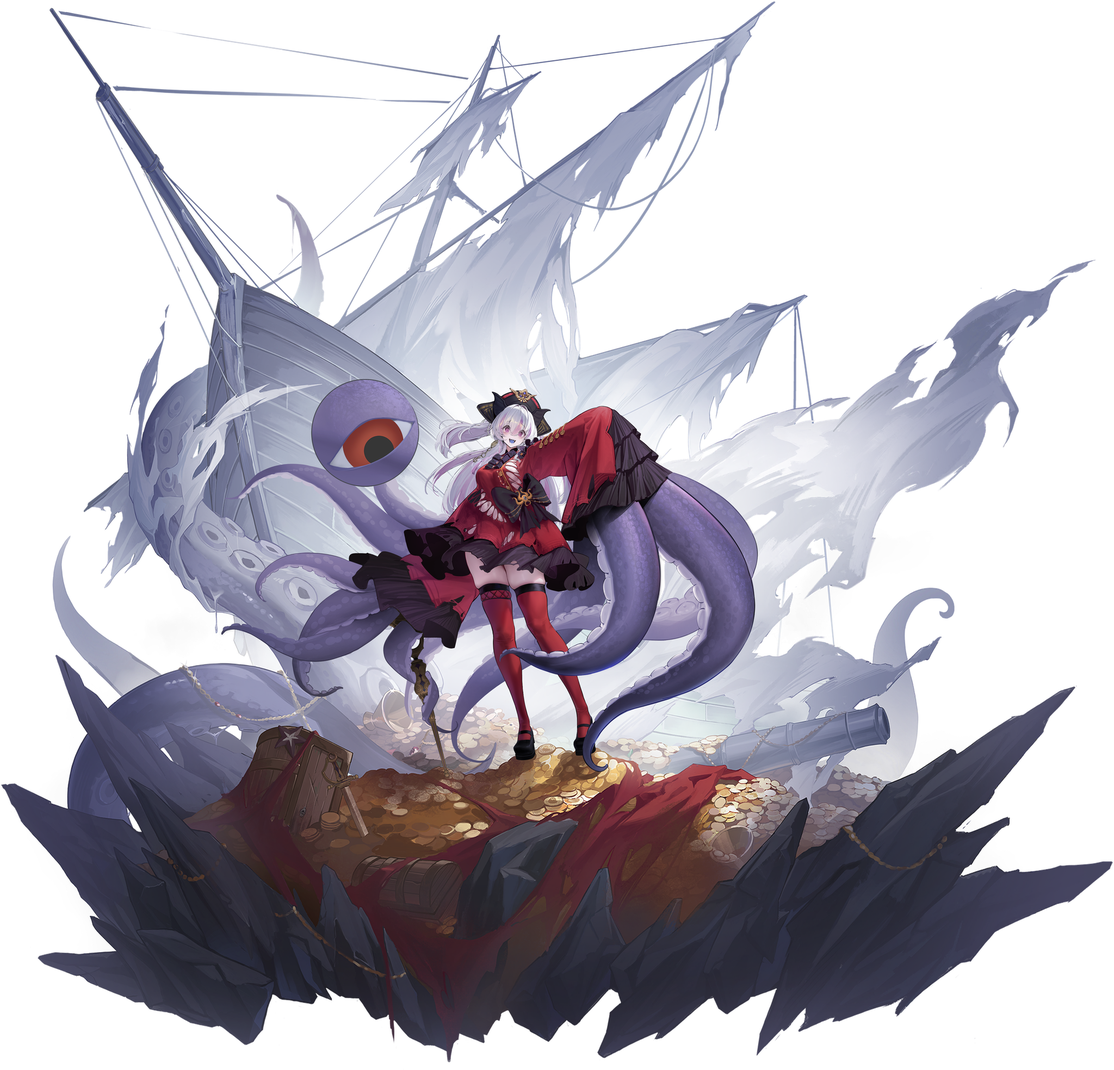person: (301, 344, 702, 799)
